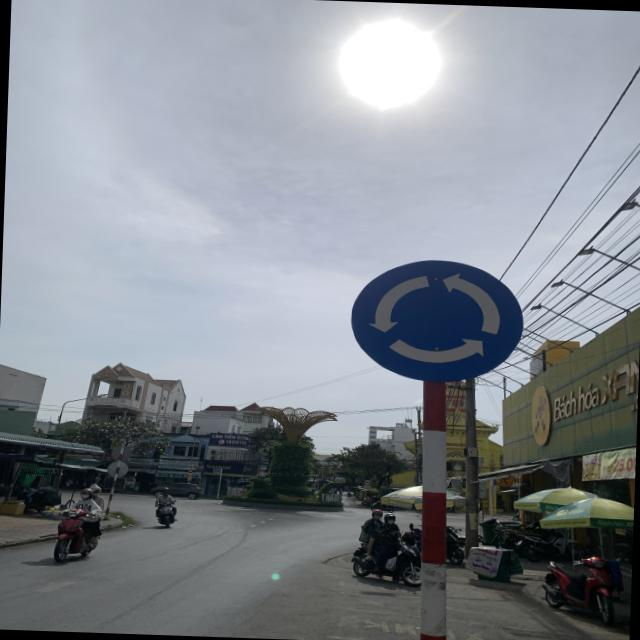Xe_Bus: (350, 256, 527, 386)
